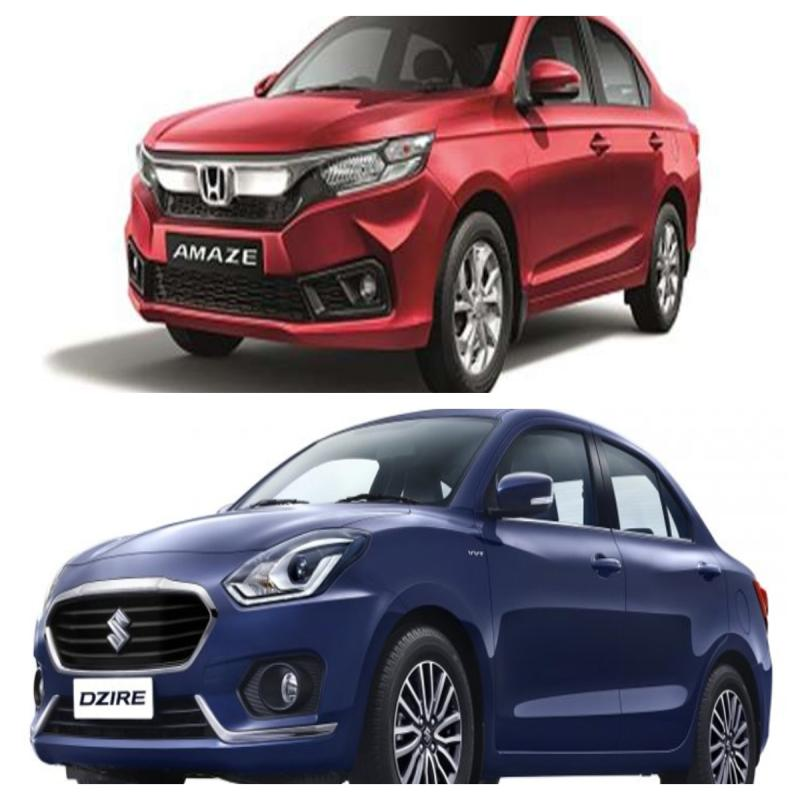car: (27, 411, 768, 782), (107, 25, 768, 368)
